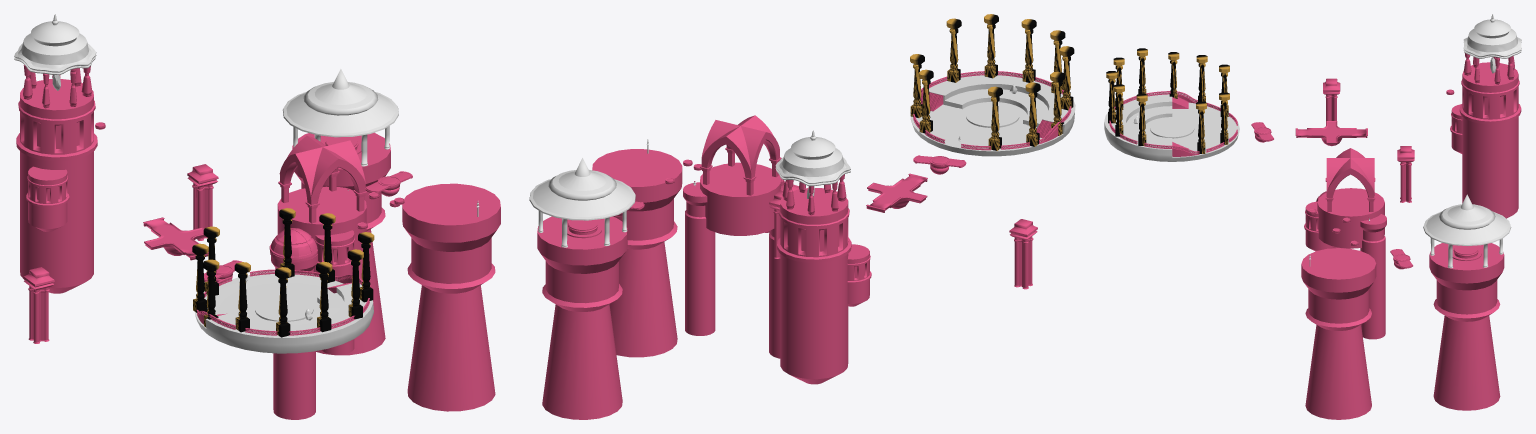
Rendered from MVP_montagem_final.fbx.
3 views of the same model, side by side, from view 1: azimuth 30°, elevation 25°; view 2: azimuth 150°, elevation 25°; view 3: azimuth 270°, elevation 25° (orthographic). The views are drawn at different scales.
Parts seen in each view (by area): view 1: topo torre 1.005; view 2: topo torre 1.005; view 3: topo torre 1.005.
Boxes of the visible parts, left/top/right/bottom form: topo torre 1.005: left=14, top=14, right=500, bottom=419; topo torre 1.005: left=529, top=14, right=1075, bottom=419; topo torre 1.005: left=1104, top=14, right=1521, bottom=419.
Bounding box in the file's own units: 26341 × 20130 × 26846.
